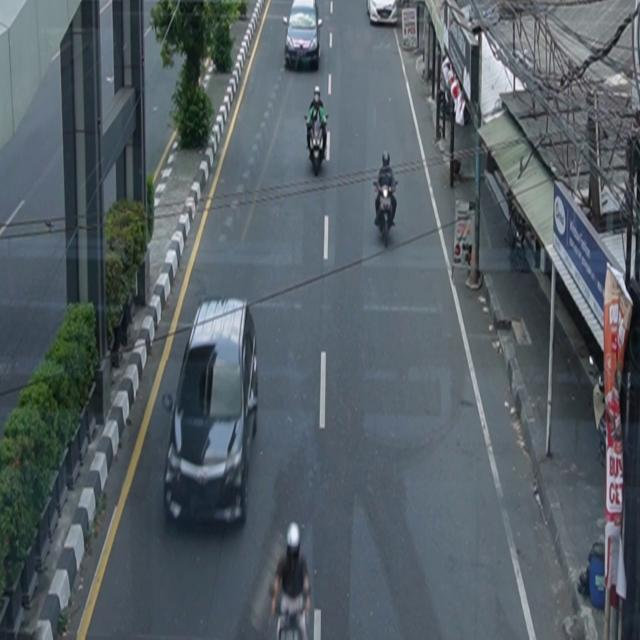car: (163, 297, 260, 528), (284, 1, 323, 72), (367, 1, 398, 26)
